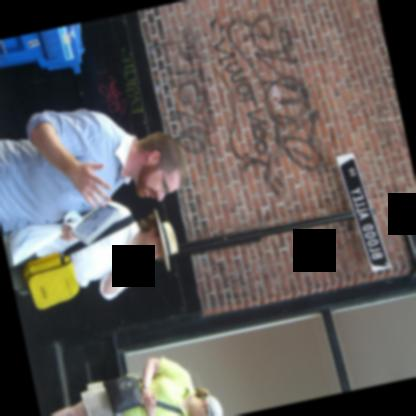handbag: (27, 207, 140, 313), (101, 375, 183, 415), (5, 220, 63, 267)
